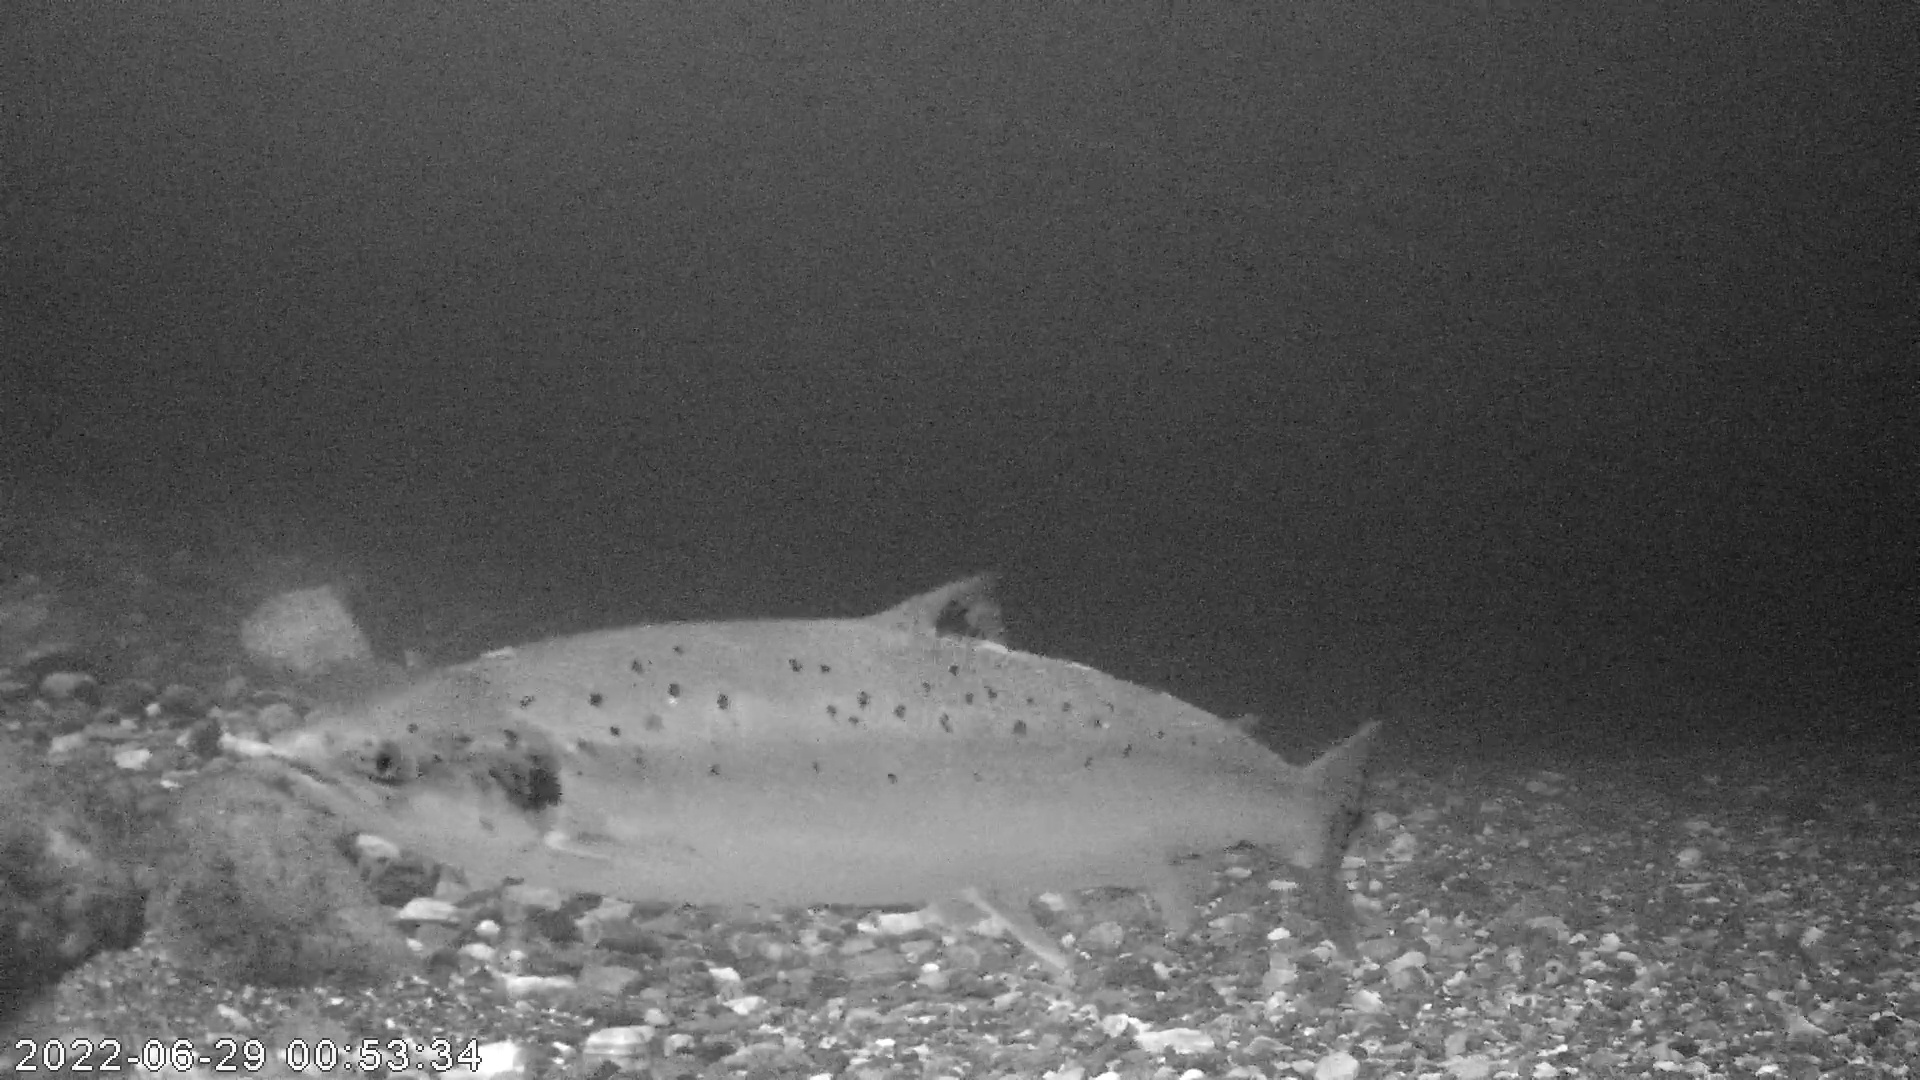salmon: (262, 559, 1391, 968)
